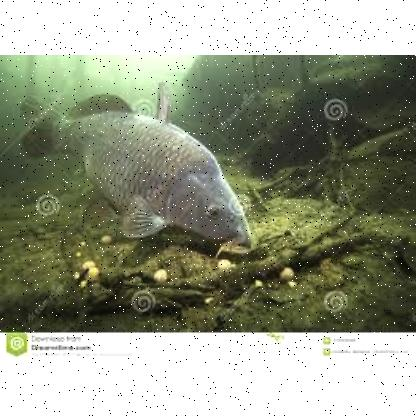ikan-mas: (21, 82, 249, 242)
